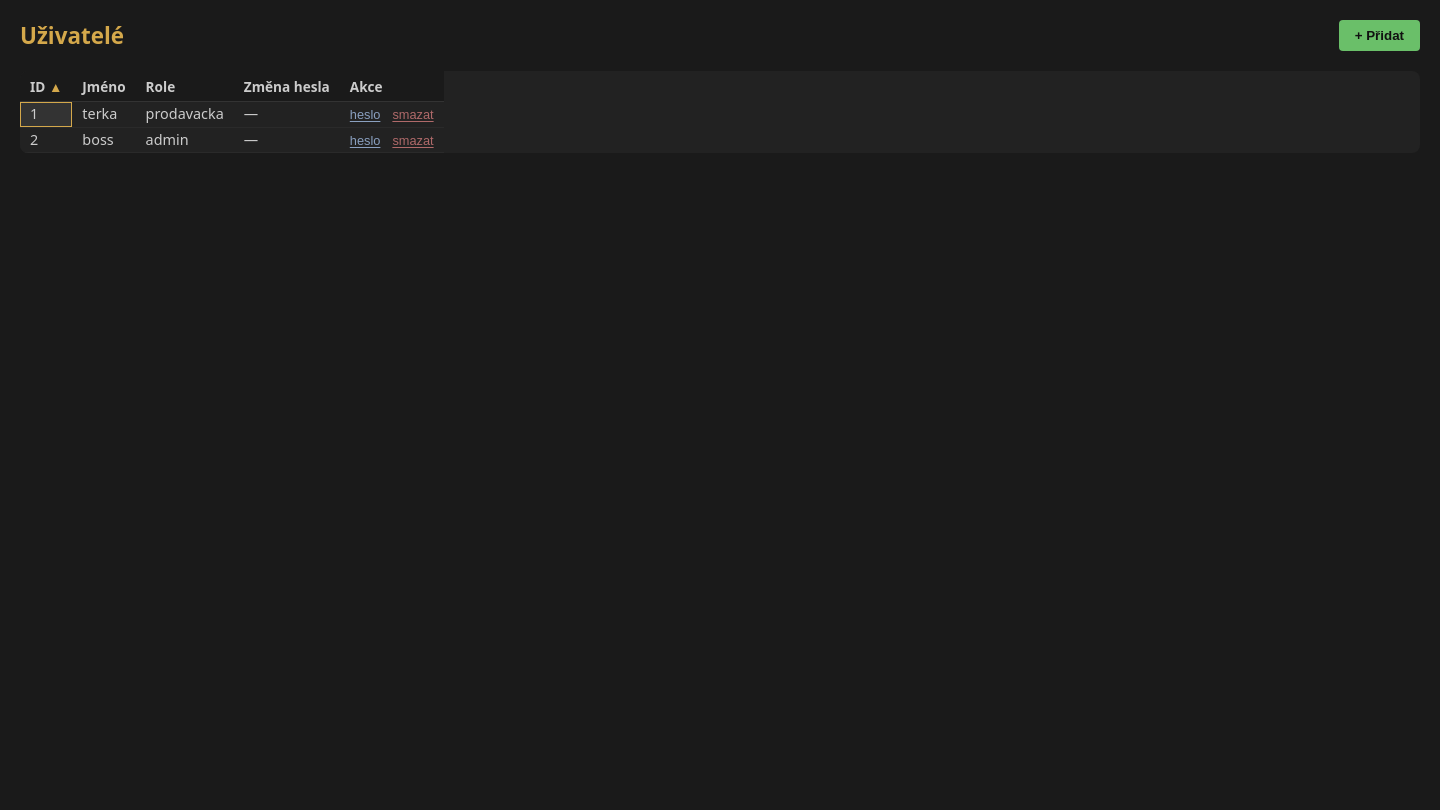
Test: Users › zobrazí formulář pro nového uživatele po kliku na Přidat
Check: the text "terka" is shown, box [72,102,136,127]
Click the button "+ Přidat": click(1379, 36) [1339,20,1420,51]
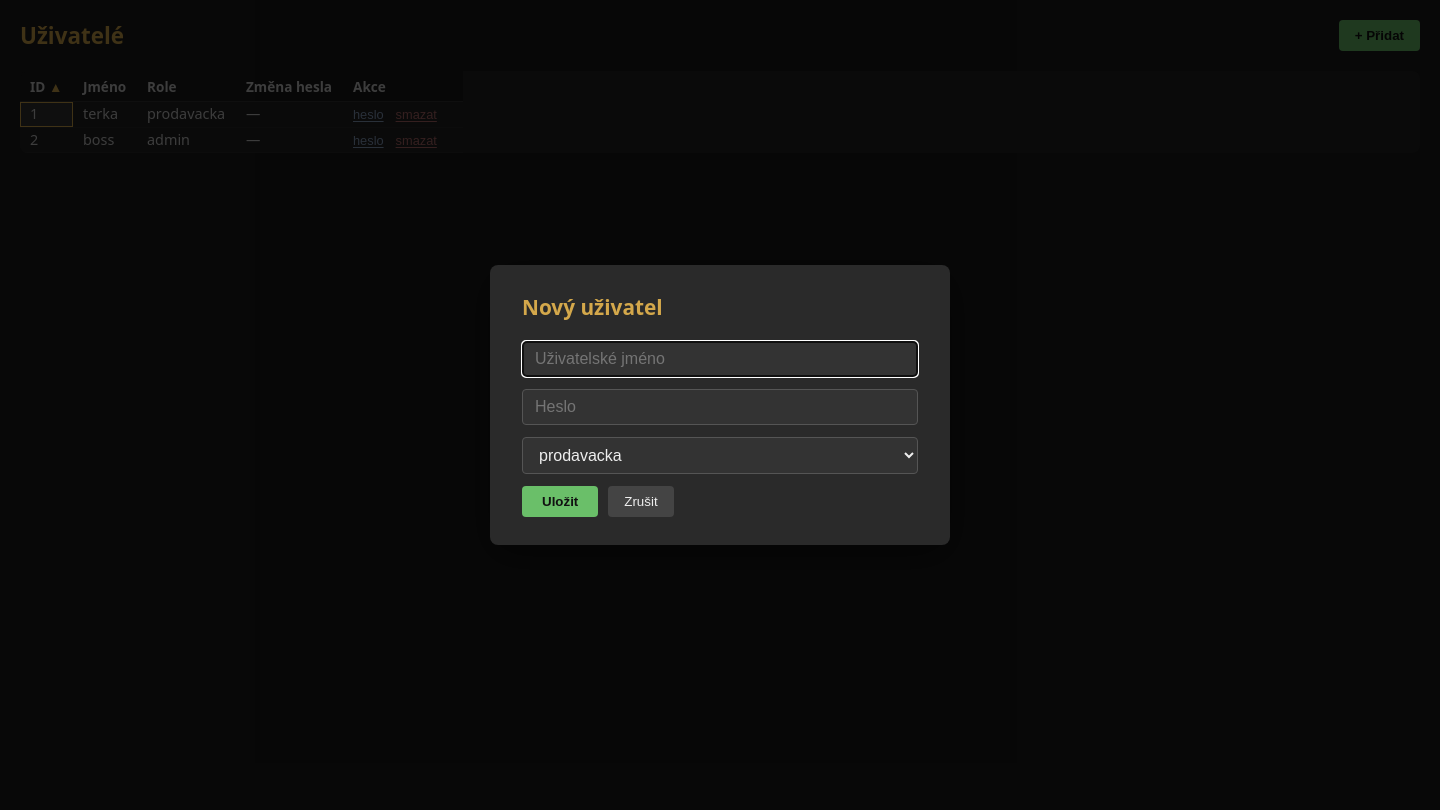
Check: the field with placeholder "Uživatelské jméno" is shown, box [522,341,918,377]
